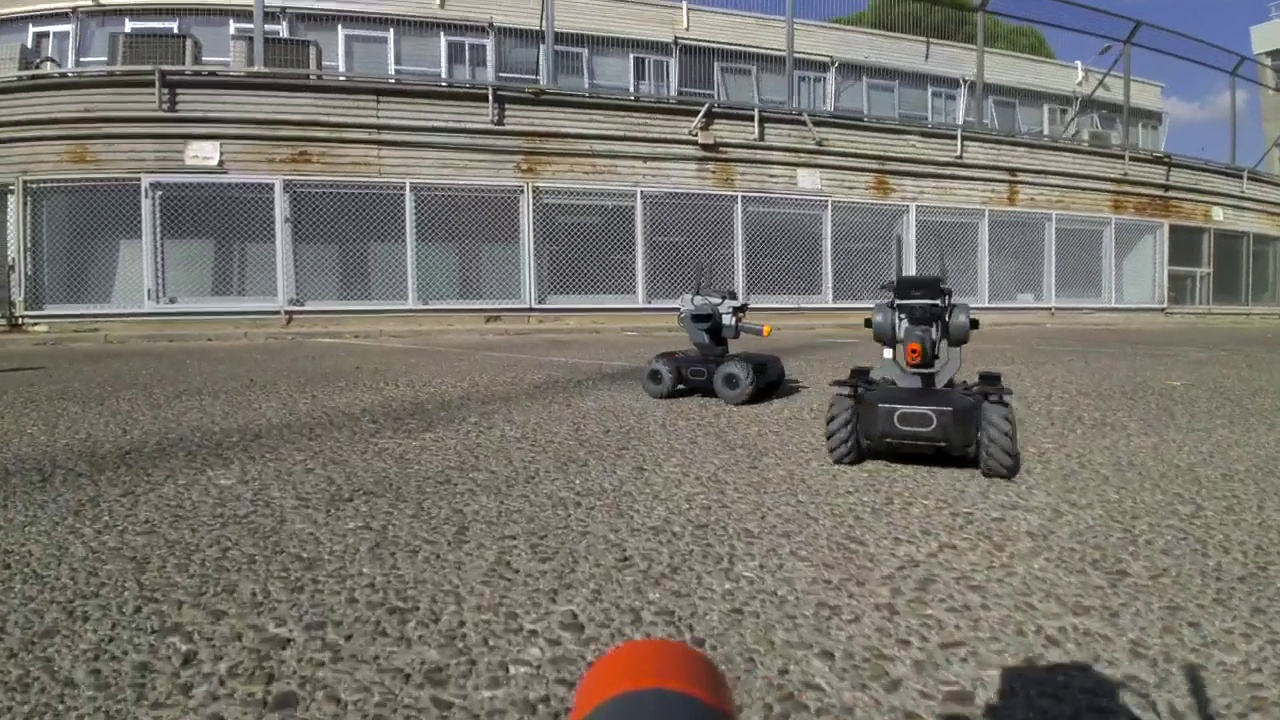robot: (825, 230, 1020, 478), (644, 259, 790, 403)
